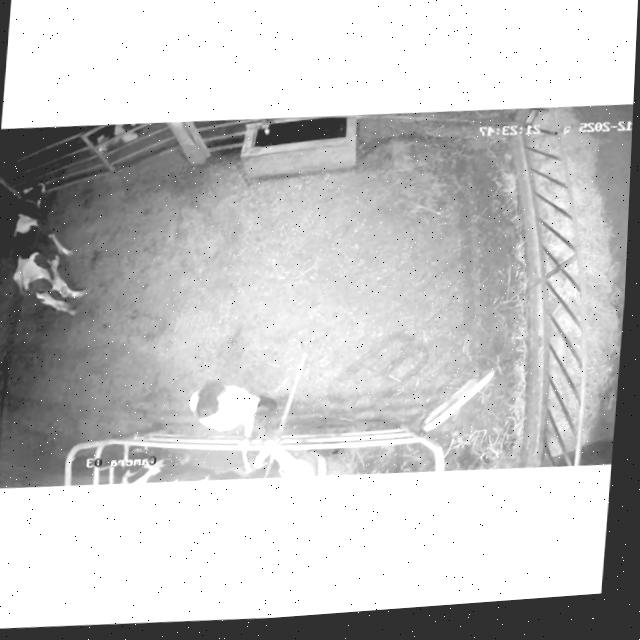stand: (0, 163, 107, 336)
